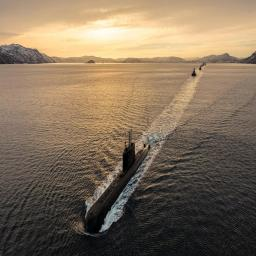submarine: (83, 127, 154, 240)
